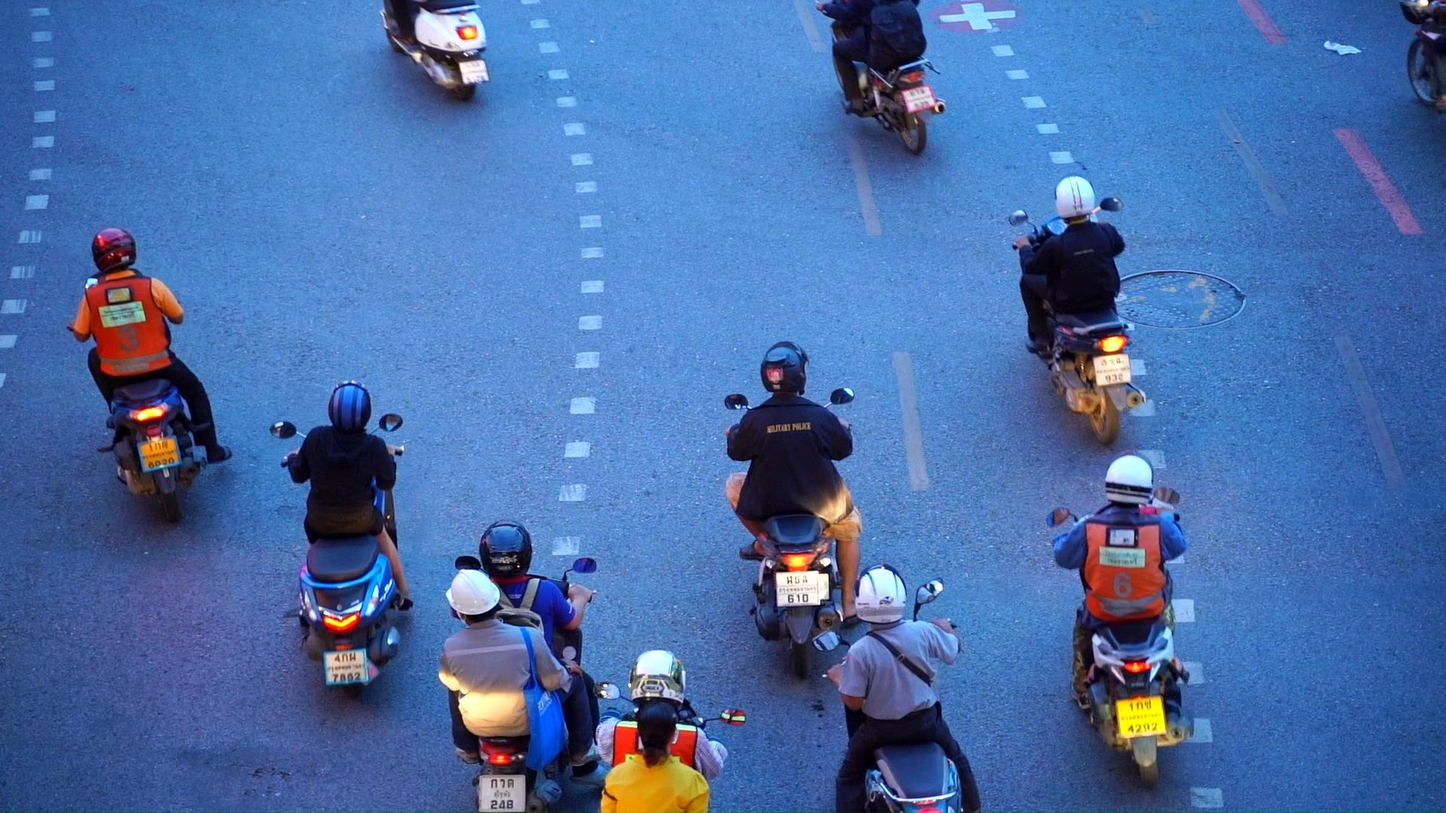driver: (1045, 450, 1194, 786), (439, 520, 609, 813), (66, 228, 233, 524), (726, 342, 863, 681), (270, 380, 415, 700), (811, 563, 981, 813), (1008, 174, 1148, 447), (592, 650, 747, 813), (816, 0, 948, 156), (379, 0, 491, 102)
helmet: (628, 649, 686, 708), (854, 563, 907, 625), (445, 569, 500, 627), (479, 520, 532, 579), (1105, 449, 1155, 508), (761, 342, 809, 396), (328, 380, 371, 435), (1054, 174, 1096, 224), (91, 228, 136, 274)
no-helmet: (637, 701, 679, 768)
